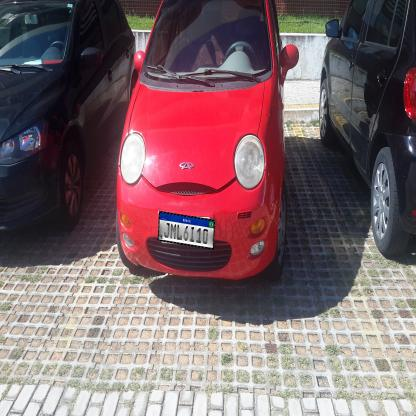PlacaM: (158, 211, 215, 250)
